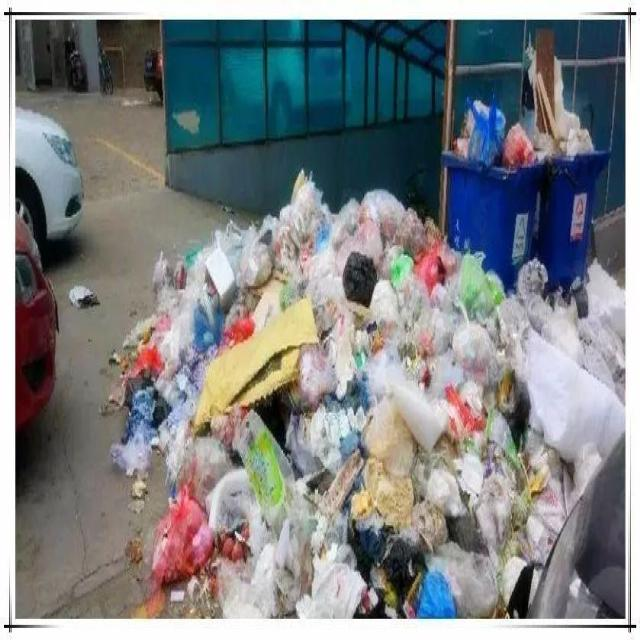garbage: (101, 168, 624, 617)
overflow: (528, 31, 612, 284), (438, 94, 538, 286)
